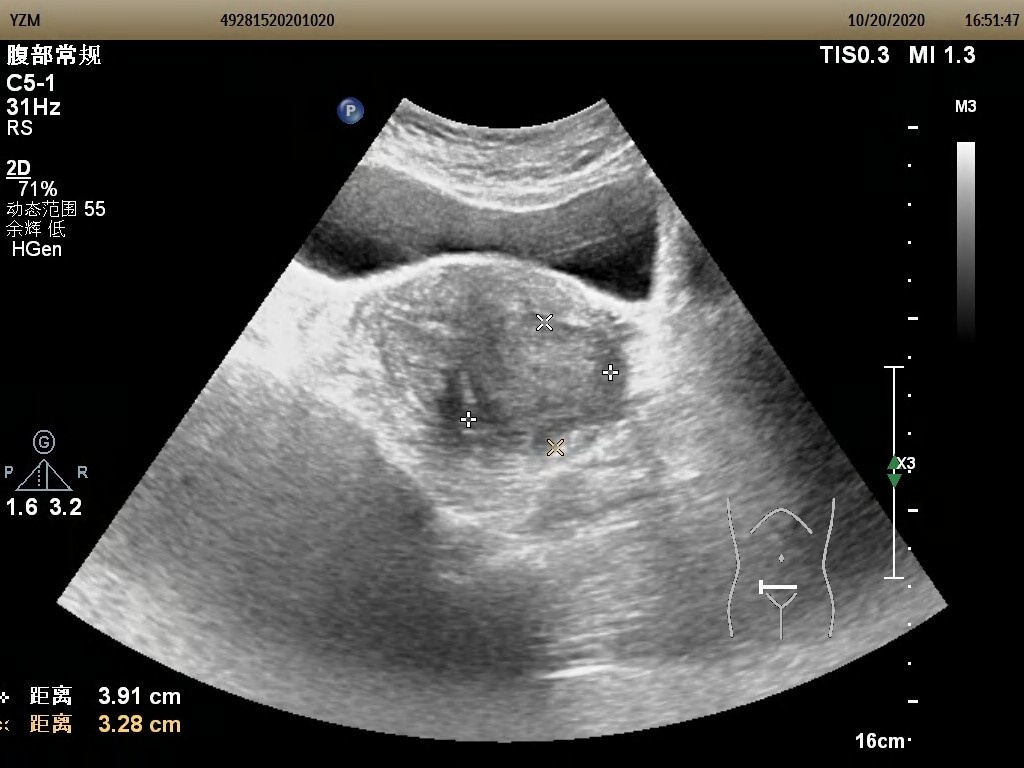肌瘤: (463, 326, 618, 448)
